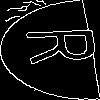R: (25, 25, 100, 66)
